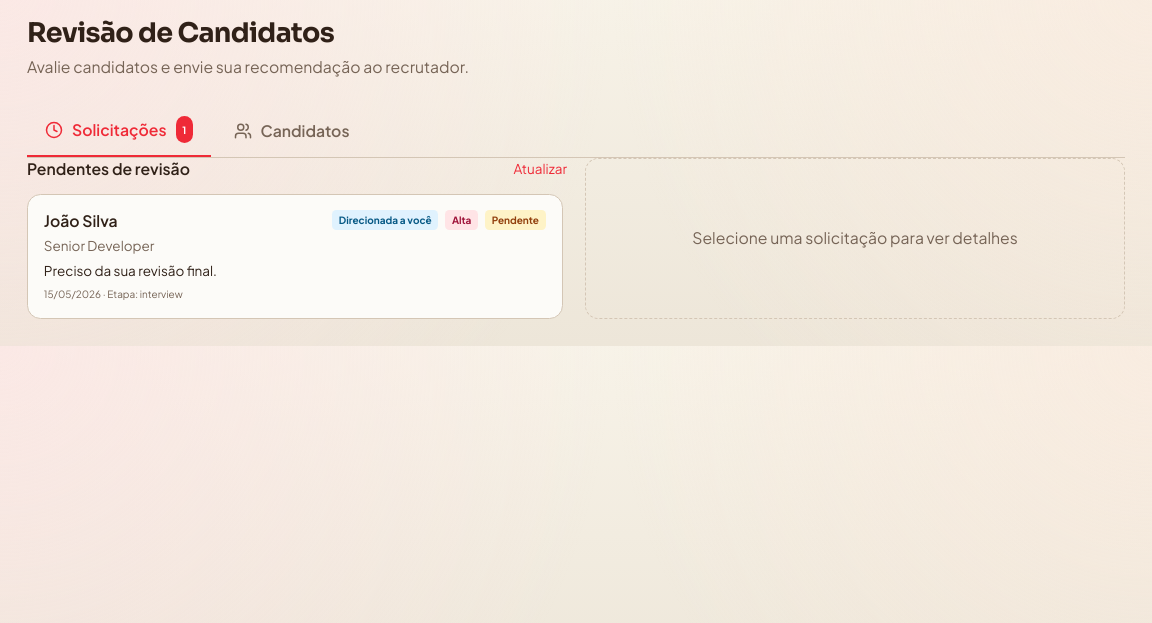
Test case: ManagerReviewPage › exibe formulário de scorecard com recomendação e observações quando não há scorecard salvo
Click the button "João Silva".
click(81, 221)  # box x1=27 y1=194 x2=562 y2=318
(page scrolled)
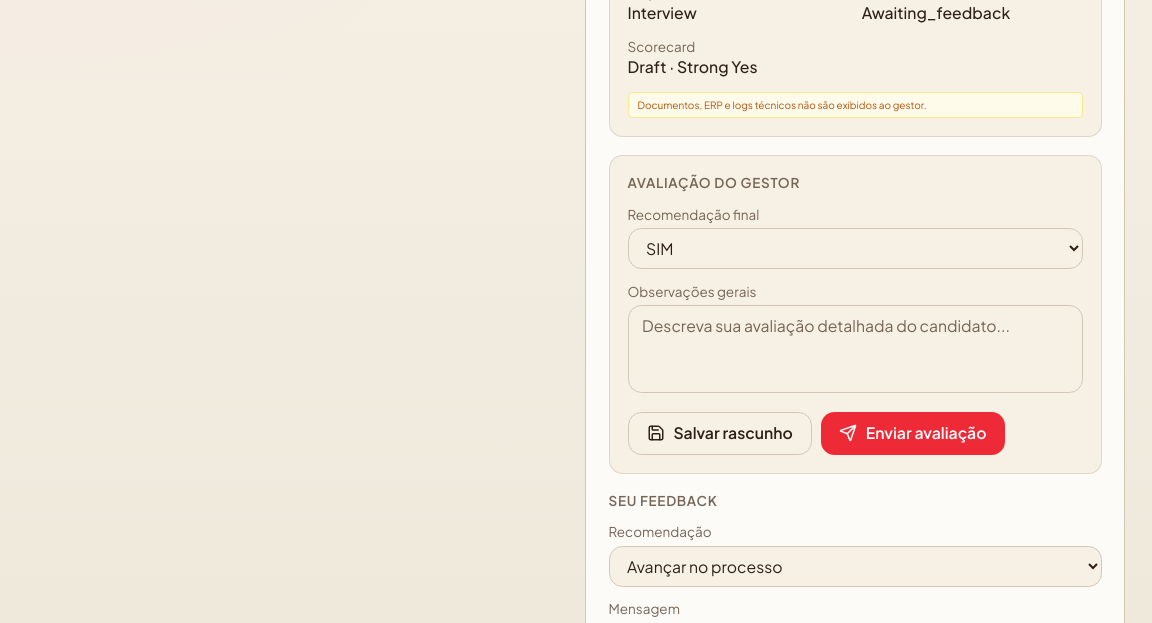
Result: the text "Avaliação do Gestor" is shown at x1=628 y1=174 x2=800 y2=191
Result: the button "Salvar rascunho" is shown at x1=628 y1=412 x2=812 y2=454
Result: the button "Enviar avaliação" is shown at x1=821 y1=412 x2=1004 y2=454
